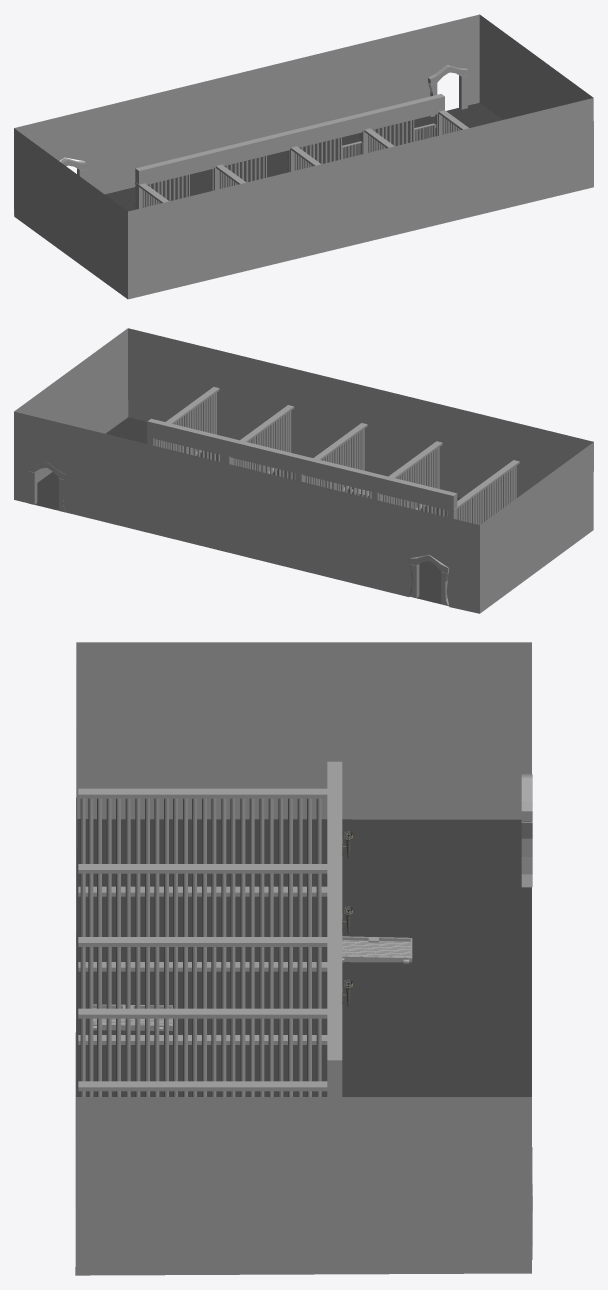
The model's file is Sala05.fbx.
3 views of the same model, one above another, from view 1: azimuth 30°, elevation 25°; view 2: azimuth 150°, elevation 25°; view 3: azimuth 270°, elevation 25° (orthographic). The views are drawn at different scales.
Parts seen in each view (by area): view 1: Nivel5:Sala03_Nivel5:pPlane6, Nivel5:pCube20, Nivel5:pCube18, Nivel5:pCube44, Nivel5:pCube19, Nivel5:ArcoPuerta1; view 2: Nivel5:Sala03_Nivel5:pPlane6, Nivel5:pCube23 (×5), Nivel5:pCube20, Nivel5:pCube18, Nivel5:pCube19, Nivel5:pCube44, Nivel5:ArcoPuerta, Nivel5:ArcoPuerta1; view 3: Nivel5:Sala03_Nivel5:pPlane6, Nivel5:pCube23 (×5), Nivel5:pCube22 (×3), Nivel5:pCube44, Nivel5:ArcoPuerta, Nivel5:pCube19, Nivel5:pCube20, Nivel5:pCube18.
Boxes of the visible parts, x1,y1,x2,y2 form: Nivel5:Sala03_Nivel5:pPlane6: (14,14,593,299); Nivel5:pCube20: (135,150,220,209); Nivel5:pCube18: (287,111,372,172); Nivel5:pCube44: (359,94,444,154); Nivel5:pCube19: (212,131,296,190); Nivel5:ArcoPuerta1: (428,65,468,117); Nivel5:Sala03_Nivel5:pPlane6: (14,328,593,613); Nivel5:pCube23 (×5): (153,387,519,511); Nivel5:pCube20: (371,473,457,519); Nivel5:pCube18: (220,436,305,482); Nivel5:pCube19: (296,455,380,500); Nivel5:pCube44: (147,418,232,464); Nivel5:ArcoPuerta: (410,555,449,605); Nivel5:ArcoPuerta1: (28,462,65,512); Nivel5:Sala03_Nivel5:pPlane6: (75,642,531,1275); Nivel5:pCube23 (×5): (78,788,327,1091); Nivel5:pCube22 (×3): (78,886,327,1044); Nivel5:pCube44: (327,980,342,1096); Nivel5:ArcoPuerta: (521,774,532,887); Nivel5:pCube19: (327,837,342,915); Nivel5:pCube20: (327,761,342,839); Nivel5:pCube18: (327,915,342,989).
Bounding box in the file's own units: 38.45 × 7.04 × 16.33.
